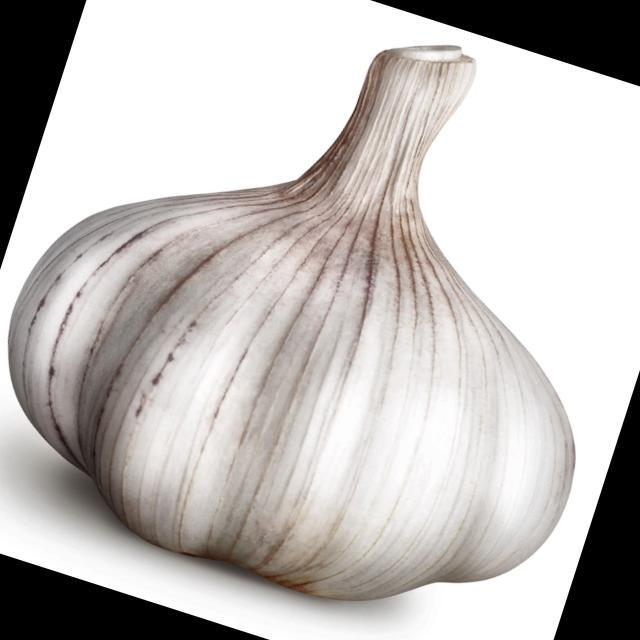garlic: (10, 46, 572, 599)
